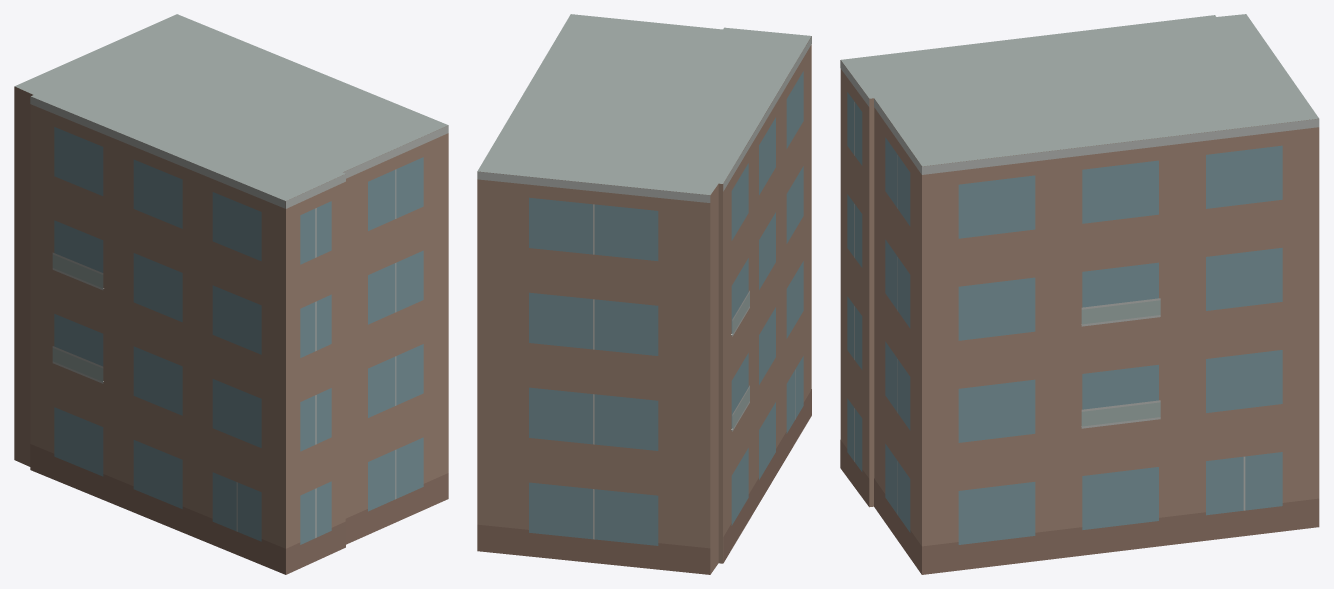
Rendered from survey-upis-32572816.glb.
3 views of the same model, side by side, from view 1: azimuth 30°, elevation 25°; view 2: azimuth 150°, elevation 25°; view 3: azimuth 270°, elevation 25° (orthographic). The views are drawn at different scales.
Parts seen in each view (by area): view 1: survey-upis-32572816.tmp; view 2: survey-upis-32572816.tmp; view 3: survey-upis-32572816.tmp.
Part boxes in pixels (x1,y1,x2,y2): survey-upis-32572816.tmp: (14,14,448,574); survey-upis-32572816.tmp: (477,14,811,574); survey-upis-32572816.tmp: (840,14,1319,574).
Size of the model in its own units: 9.29 by 11.6 by 12.33.
